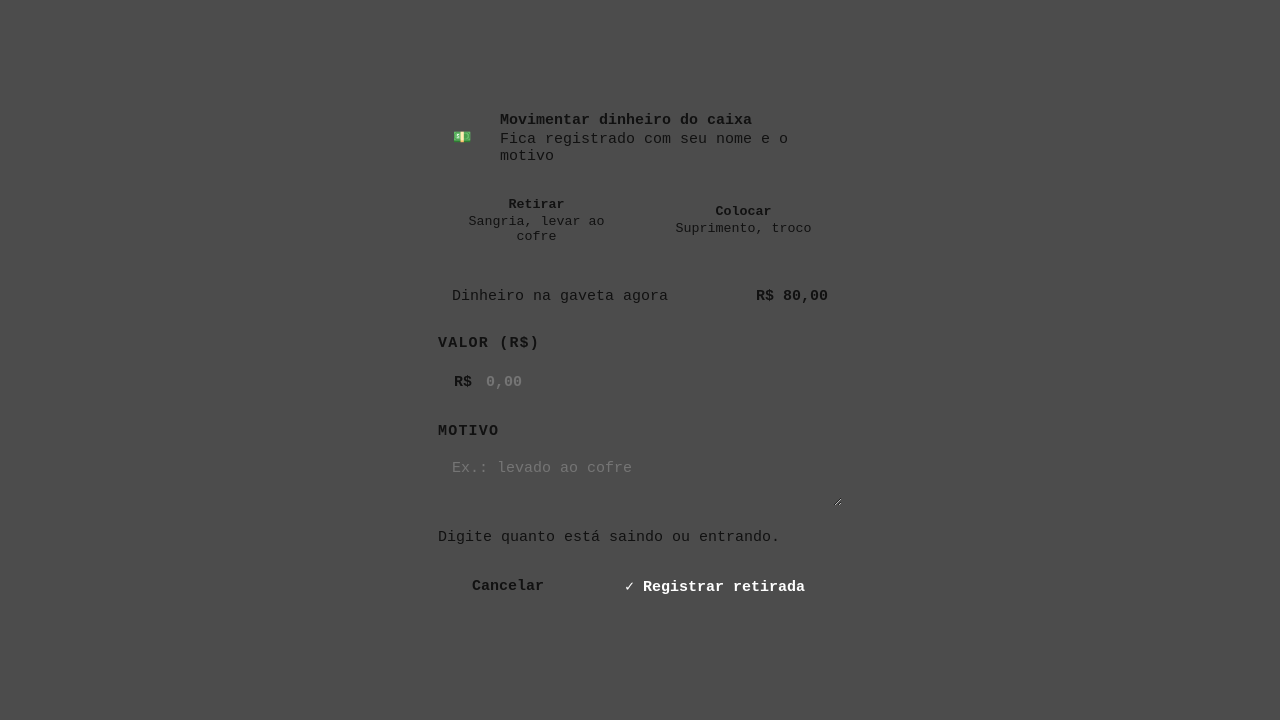
Test: MovimentoCaixaModal, o botão diz por que não dá para confirmar › sangria acima do dinheiro na gaveta é bloqueada, com o valor disponível na mensagem
Type "100" into the number field with class "movimento-caixa__input" at (640, 382), box [438,360,842,404]
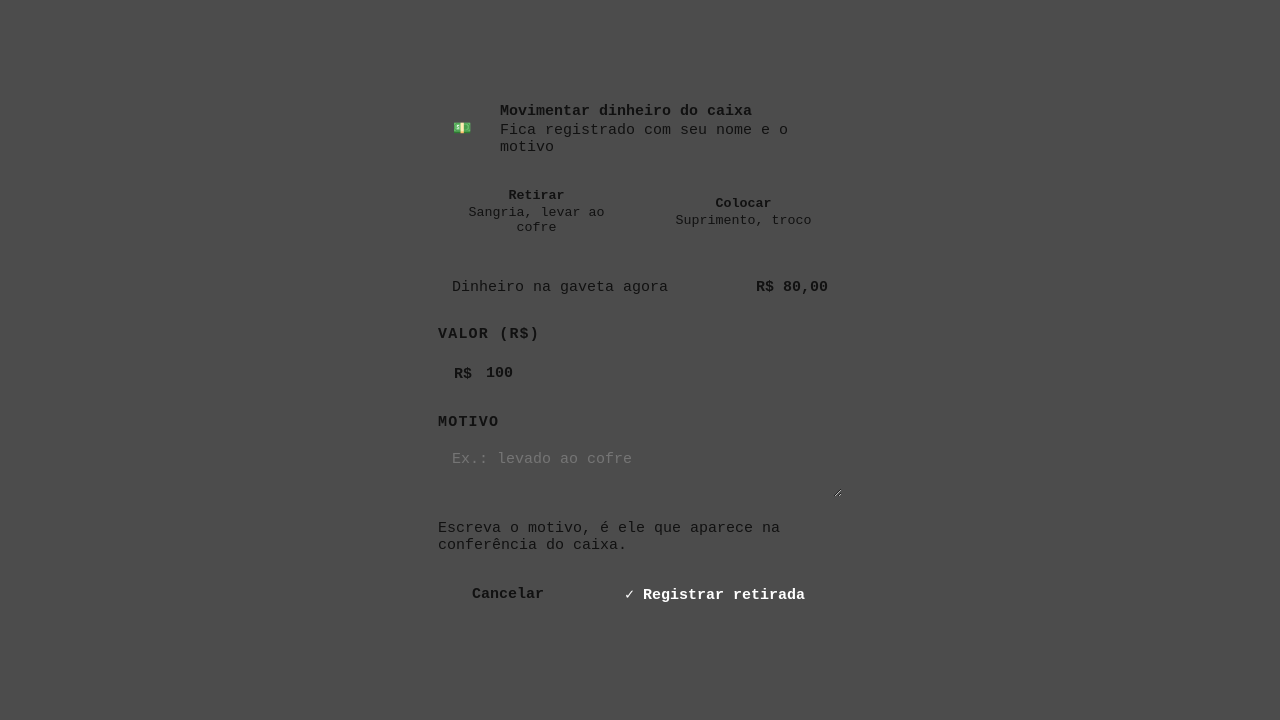
Type "cofre" into the text box with class "movimento-caixa__textarea" at (640, 468), box [438,439,842,497]
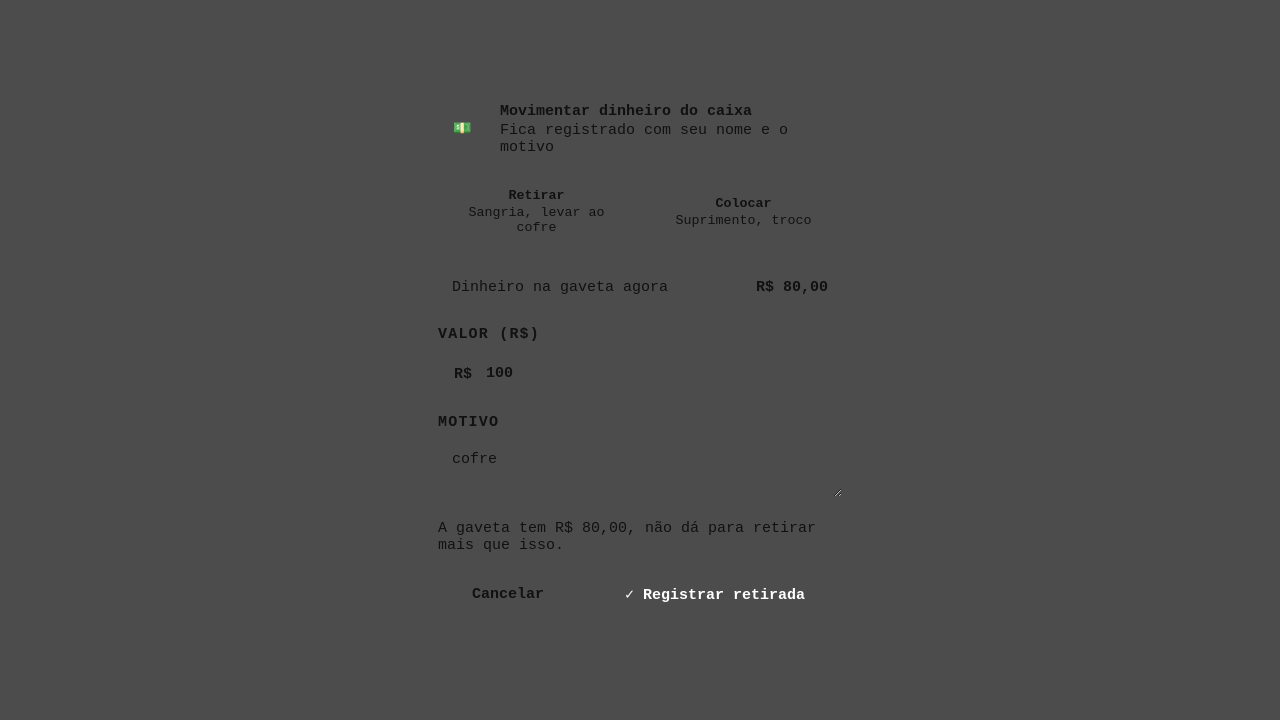
Check: the button with class "movimento-caixa__botao-confirmar" is disabled, box [588,572,842,617]
Check: the text with class "movimento-caixa__pendencia" shows "80,00", box [438,520,816,554]
